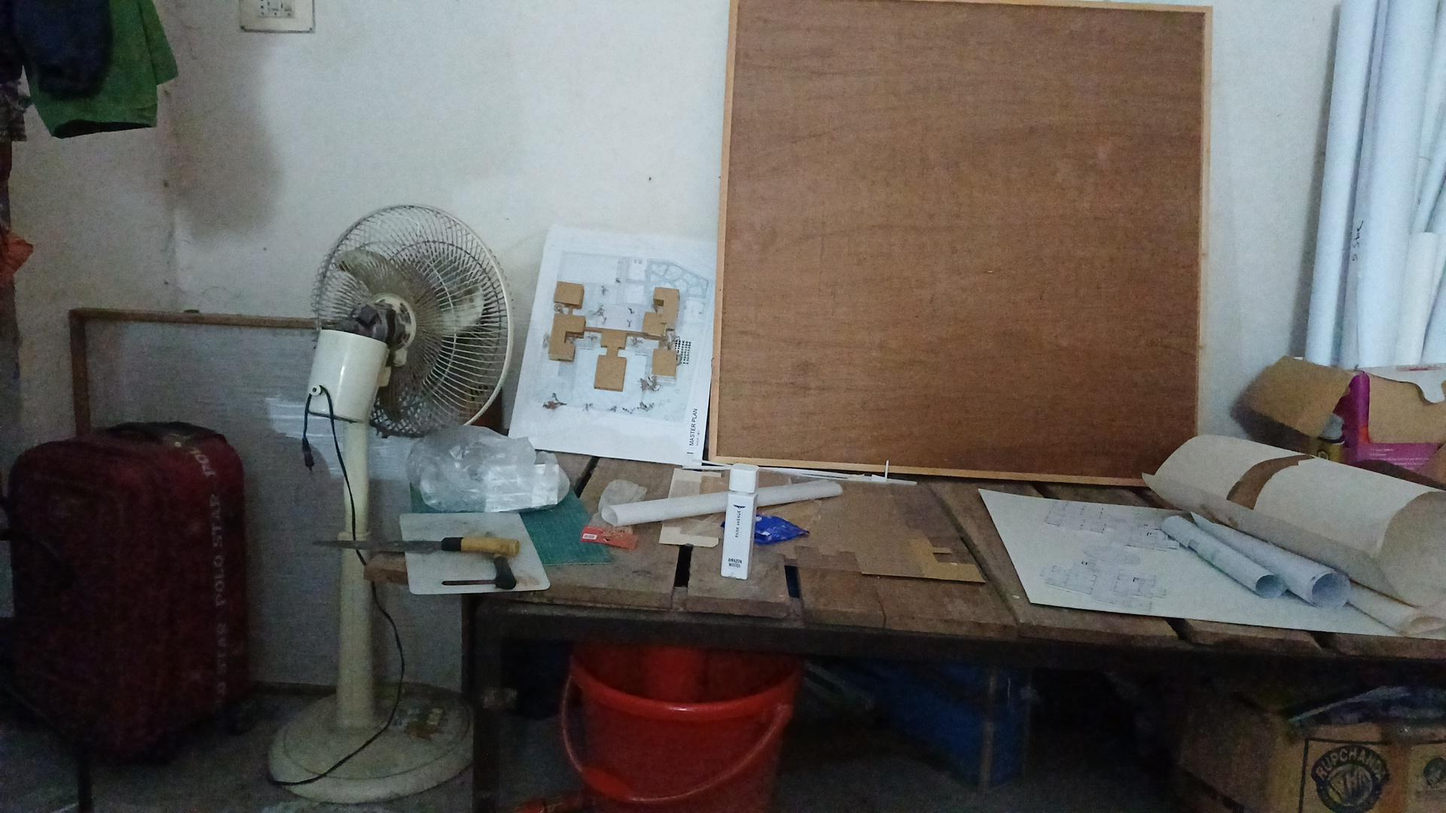Bottle: (676, 446, 800, 596)
Box: (1155, 634, 1446, 810)
Bucket: (551, 632, 810, 813)
Fan: (259, 209, 517, 637)
Knife: (222, 511, 561, 603)
Photo: (535, 197, 718, 457)
